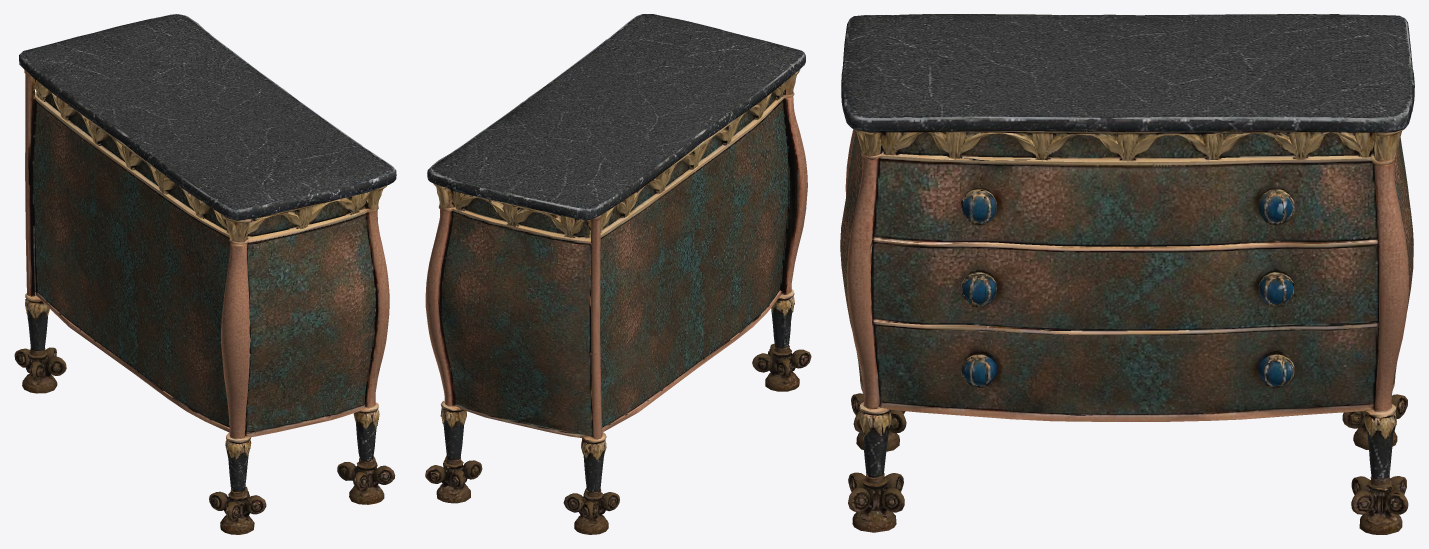
The model's file is HY-03_dresser_game.glb.
3 views of the same model, side by side, from view 1: azimuth 30°, elevation 25°; view 2: azimuth 150°, elevation 25°; view 3: azimuth 270°, elevation 25° (orthographic). The views are drawn at different scales.
Visible parts, largest first — view 1: HY-03_dresser; view 2: HY-03_dresser; view 3: HY-03_dresser.
Part boxes in pixels (<box>): HY-03_dresser: <box>14,14,396,534</box>; HY-03_dresser: <box>425,14,811,534</box>; HY-03_dresser: <box>840,14,1414,534</box>.
Size of the model in its own units: 0.5087 by 0.8797 by 1.07.
1 material, 1 textured.
